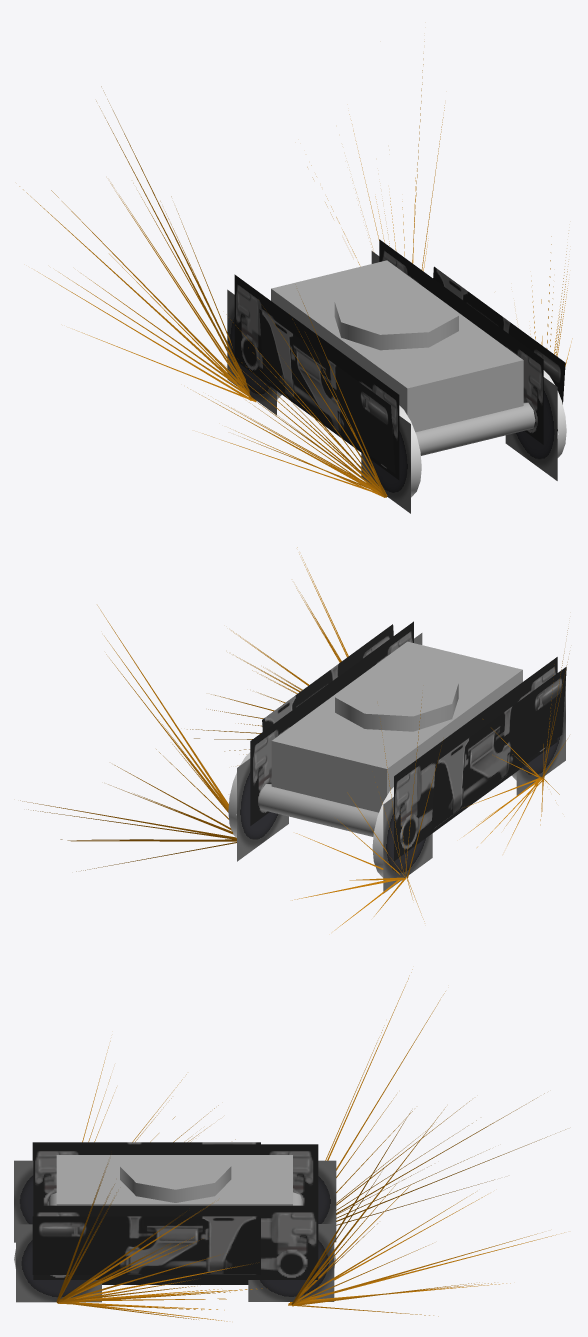
File: K8000_TRACK_N.glb
The picture shows the model from 3 angles, top to bottom: view 1: azimuth 30°, elevation 25°; view 2: azimuth 150°, elevation 25°; view 3: azimuth 270°, elevation 25°; orthographic projection. The views are drawn at different scales.
Parts seen in each view (by area): view 1: obj1, Fire1_R_1, Fire0_R_0; view 2: obj1, Fire1_L_0, Fire1_R_1, Fire0_R_0, Fire0_L_1, Fire0_L_0; view 3: obj1, Fire1_L_1, Fire0_L_0, Fire0_L_1, Fire1_R_0.
Part boxes in pixels (x1=…): obj1: x1=227, y1=239, x2=566, y2=513; Fire1_R_1: x1=19, y1=90, x2=256, y2=402; Fire0_R_0: x1=187, y1=299, x2=387, y2=497; obj1: x1=228, y1=621, x2=566, y2=893; Fire1_L_0: x1=27, y1=610, x2=236, y2=870; Fire1_R_1: x1=295, y1=697, x2=422, y2=930; Fire0_R_0: x1=463, y1=719, x2=559, y2=847; Fire0_L_1: x1=190, y1=547, x2=348, y2=754; Fire0_L_0: x1=187, y1=554, x2=347, y2=765; obj1: x1=14, y1=1142, x2=336, y2=1302; Fire1_L_1: x1=288, y1=1114, x2=561, y2=1315; Fire0_L_0: x1=57, y1=1163, x2=262, y2=1321; Fire0_L_1: x1=56, y1=1164, x2=261, y2=1321; Fire1_R_0: x1=325, y1=978, x2=546, y2=1225.
Size of the model in its own units: 9.19 by 6.14 by 13.06.
Materials: 14 (5 with a texture image).
